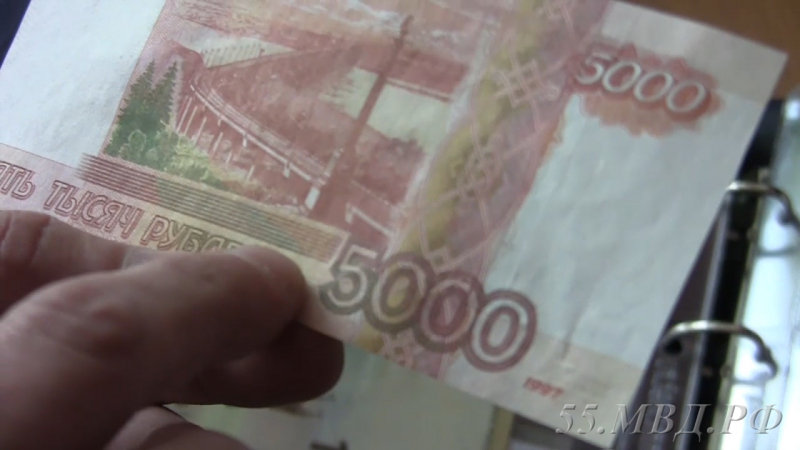cash: (1, 1, 788, 448)
